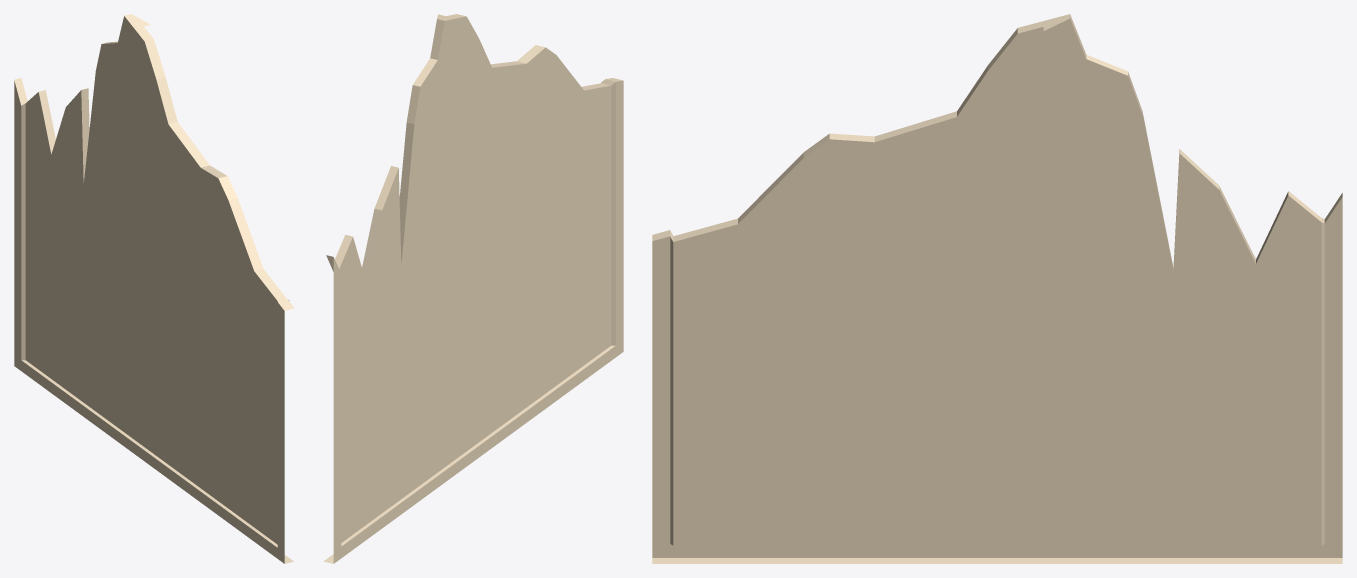
Rendered from Boiserie_Broken03.fbx.
3 renders of one model, left to right at view 1: azimuth 30°, elevation 25°; view 2: azimuth 150°, elevation 25°; view 3: azimuth 270°, elevation 25°, orthographic. The views are drawn at different scales.
Visible parts, largest first — view 1: Cube.038; view 2: Cube.038; view 3: Cube.038.
Boxes of the visible parts, box(x1,y1,x2,y2) form: Cube.038: box(14, 14, 294, 563); Cube.038: box(323, 14, 623, 563); Cube.038: box(652, 14, 1342, 563).
Size of the model in its own units: 8.35 by 173 by 198.
